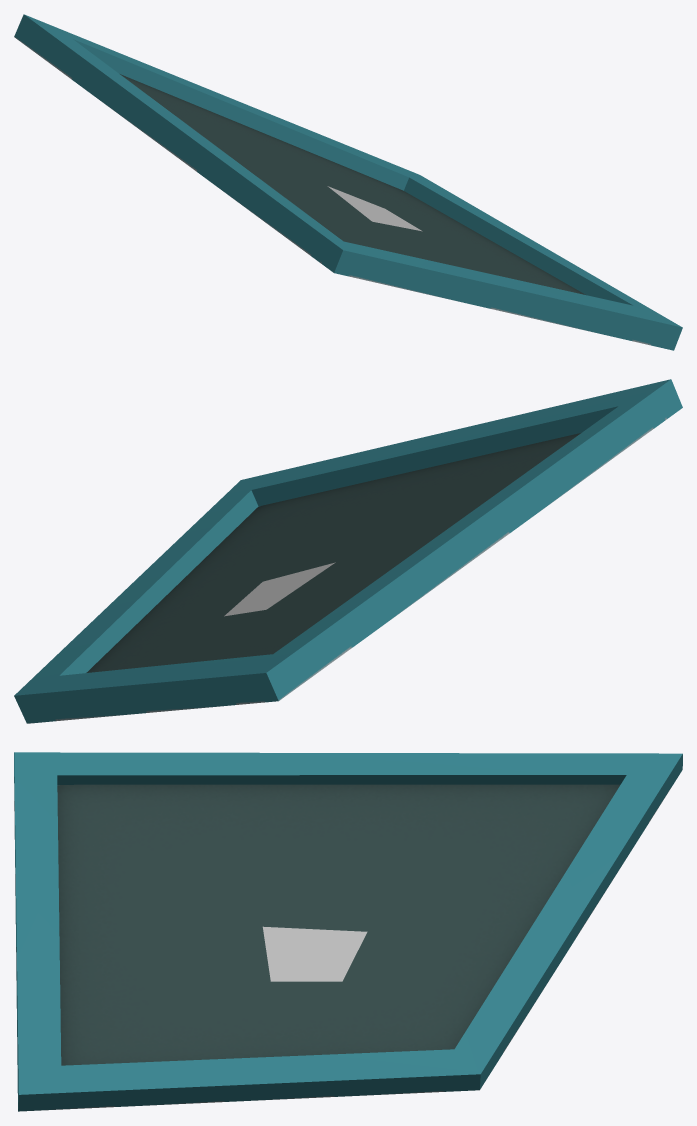
File: EXP_2_Console_Door_Left.fbx
The picture shows the model from 3 angles, top to bottom: view 1: azimuth 30°, elevation 25°; view 2: azimuth 150°, elevation 25°; view 3: azimuth 270°, elevation 25°; orthographic projection. The views are drawn at different scales.
Visible parts, largest first — view 1: Console_Door_Left; view 2: Console_Door_Left; view 3: Console_Door_Left.
Part boxes in pixels (<box>): Console_Door_Left: <box>14,14,682,350</box>; Console_Door_Left: <box>14,379,682,723</box>; Console_Door_Left: <box>14,752,682,1111</box>.
Size of the model in its own units: 554 by 276 by 879.
